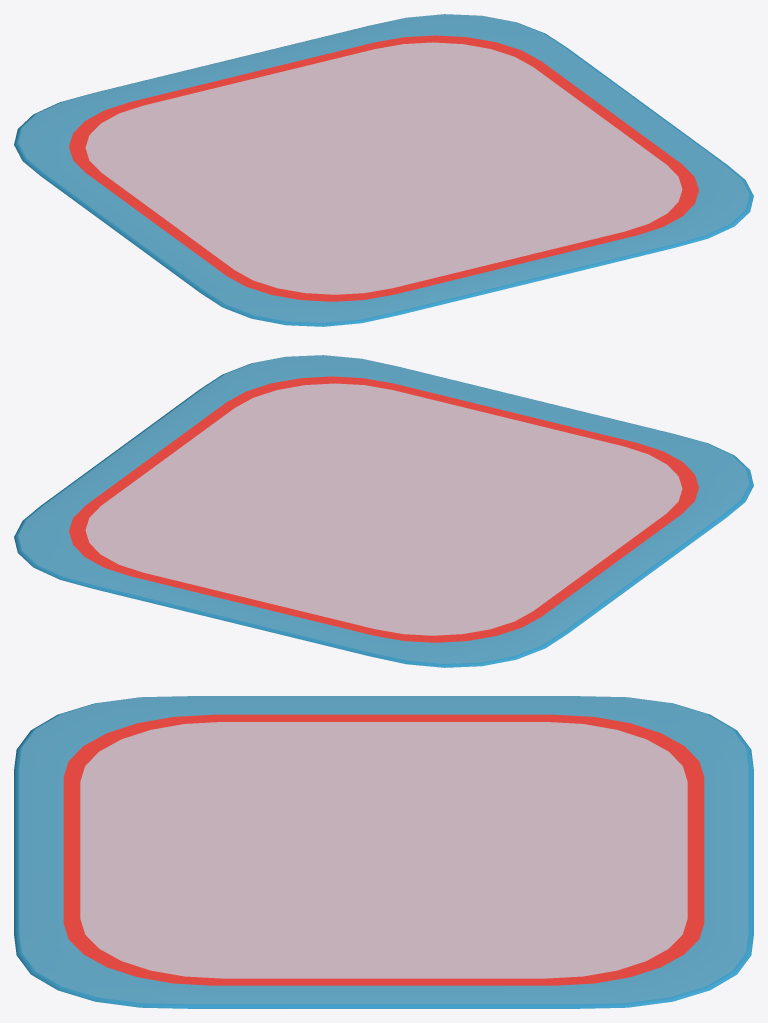
The model's file is floor_box_spin.fbx.
The picture shows the model from 3 angles, top to bottom: view 1: azimuth 30°, elevation 25°; view 2: azimuth 150°, elevation 25°; view 3: azimuth 270°, elevation 25°; orthographic projection. The views are drawn at different scales.
Parts seen in each view (by area): view 1: floor_box_spin; view 2: floor_box_spin; view 3: floor_box_spin.
Boxes of the visible parts, box(x1,y1,x2,y2) form: floor_box_spin: box(14, 14, 753, 326); floor_box_spin: box(14, 355, 753, 667); floor_box_spin: box(14, 696, 753, 1008).
Size of the model in its own units: 509 by 1.72 by 509.
